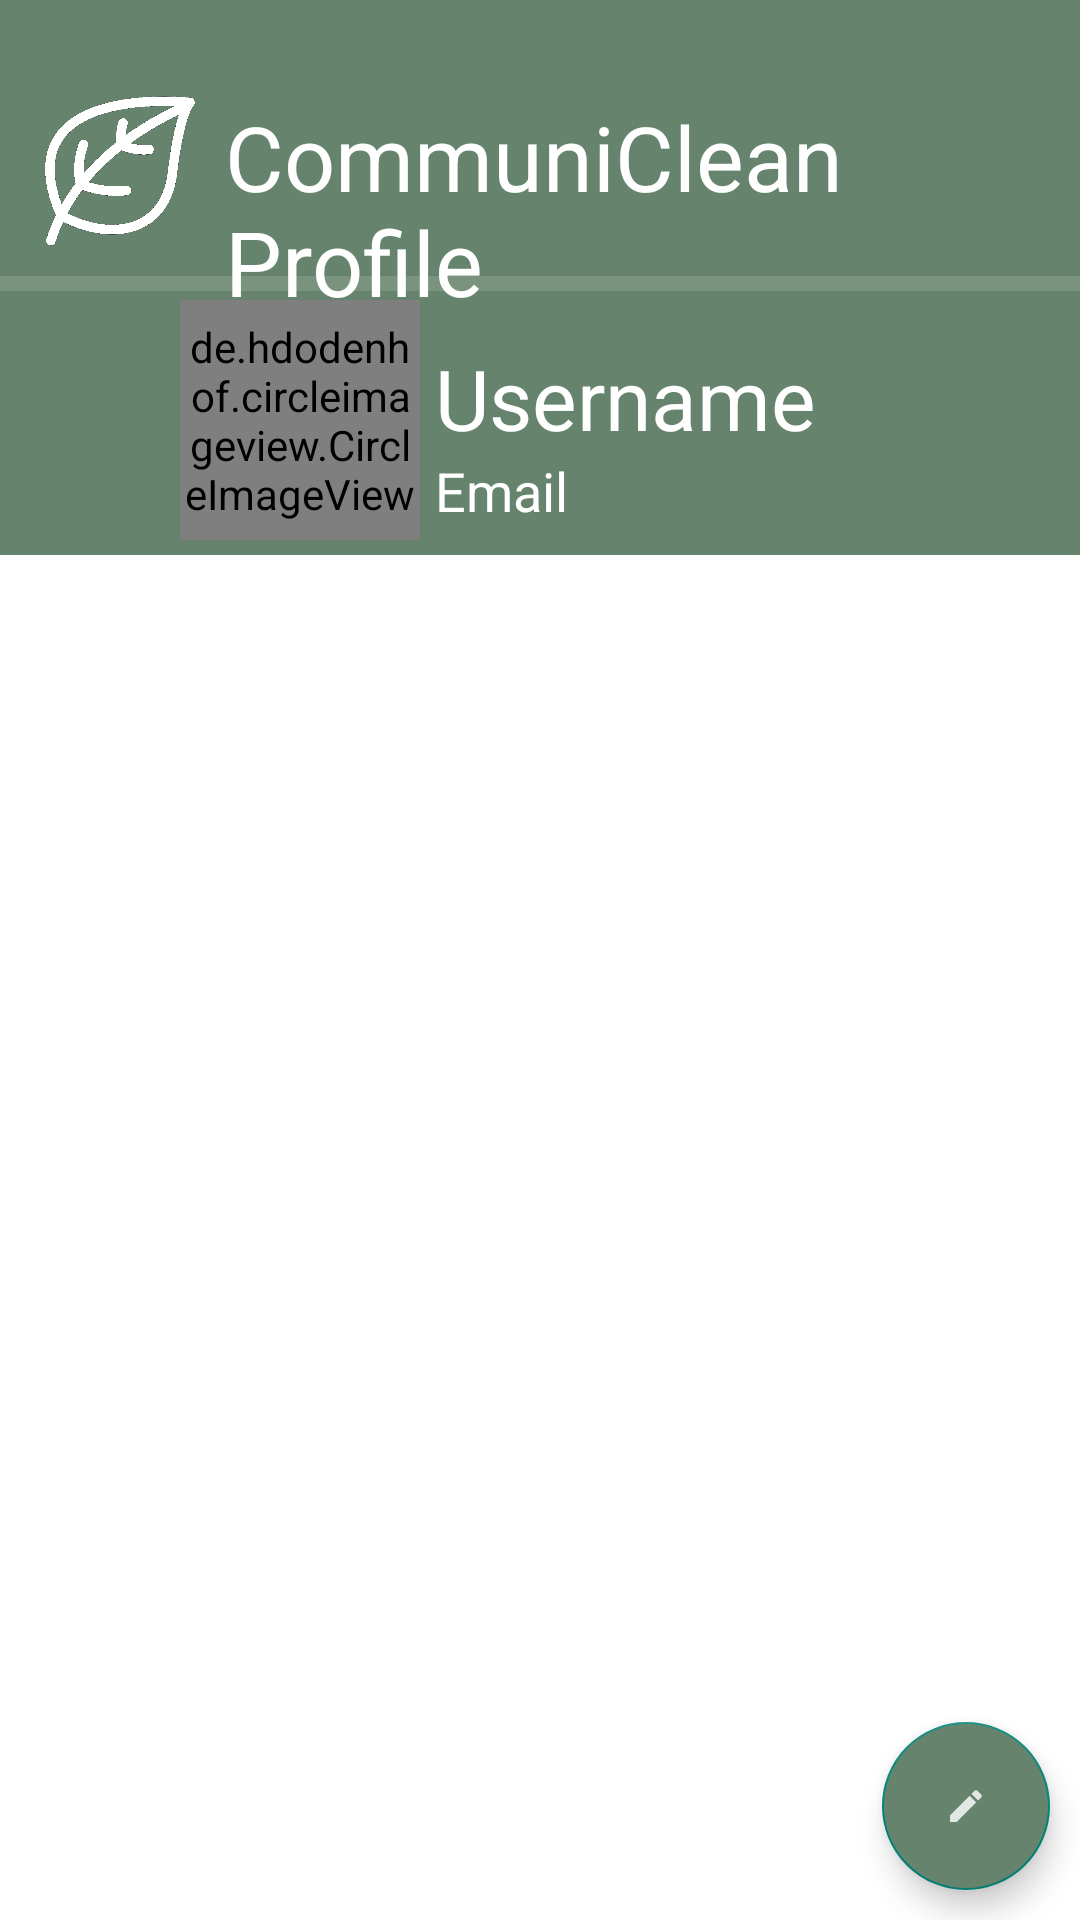

Screen size 1080x1920. Icon name, then its box in pixels as bbox(x1, y1, x2, y2):
Edit your profile data: bbox(882, 1722, 1050, 1890)
